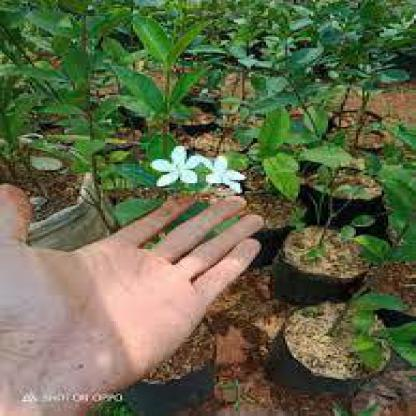Melati: (147, 130, 256, 196)
